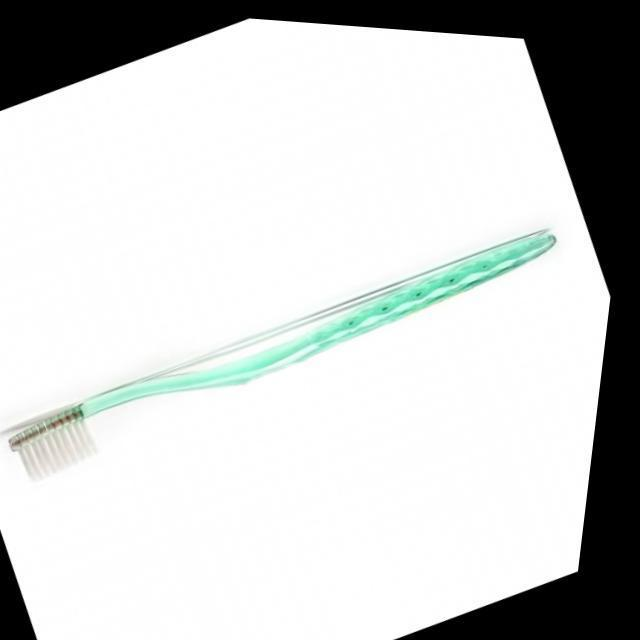toothbrush: (1, 165, 604, 527)
